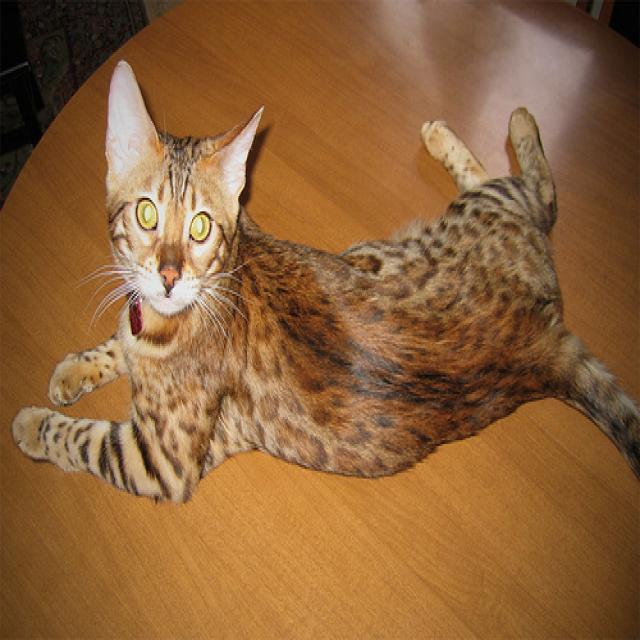Bengal: (98, 60, 270, 322)
